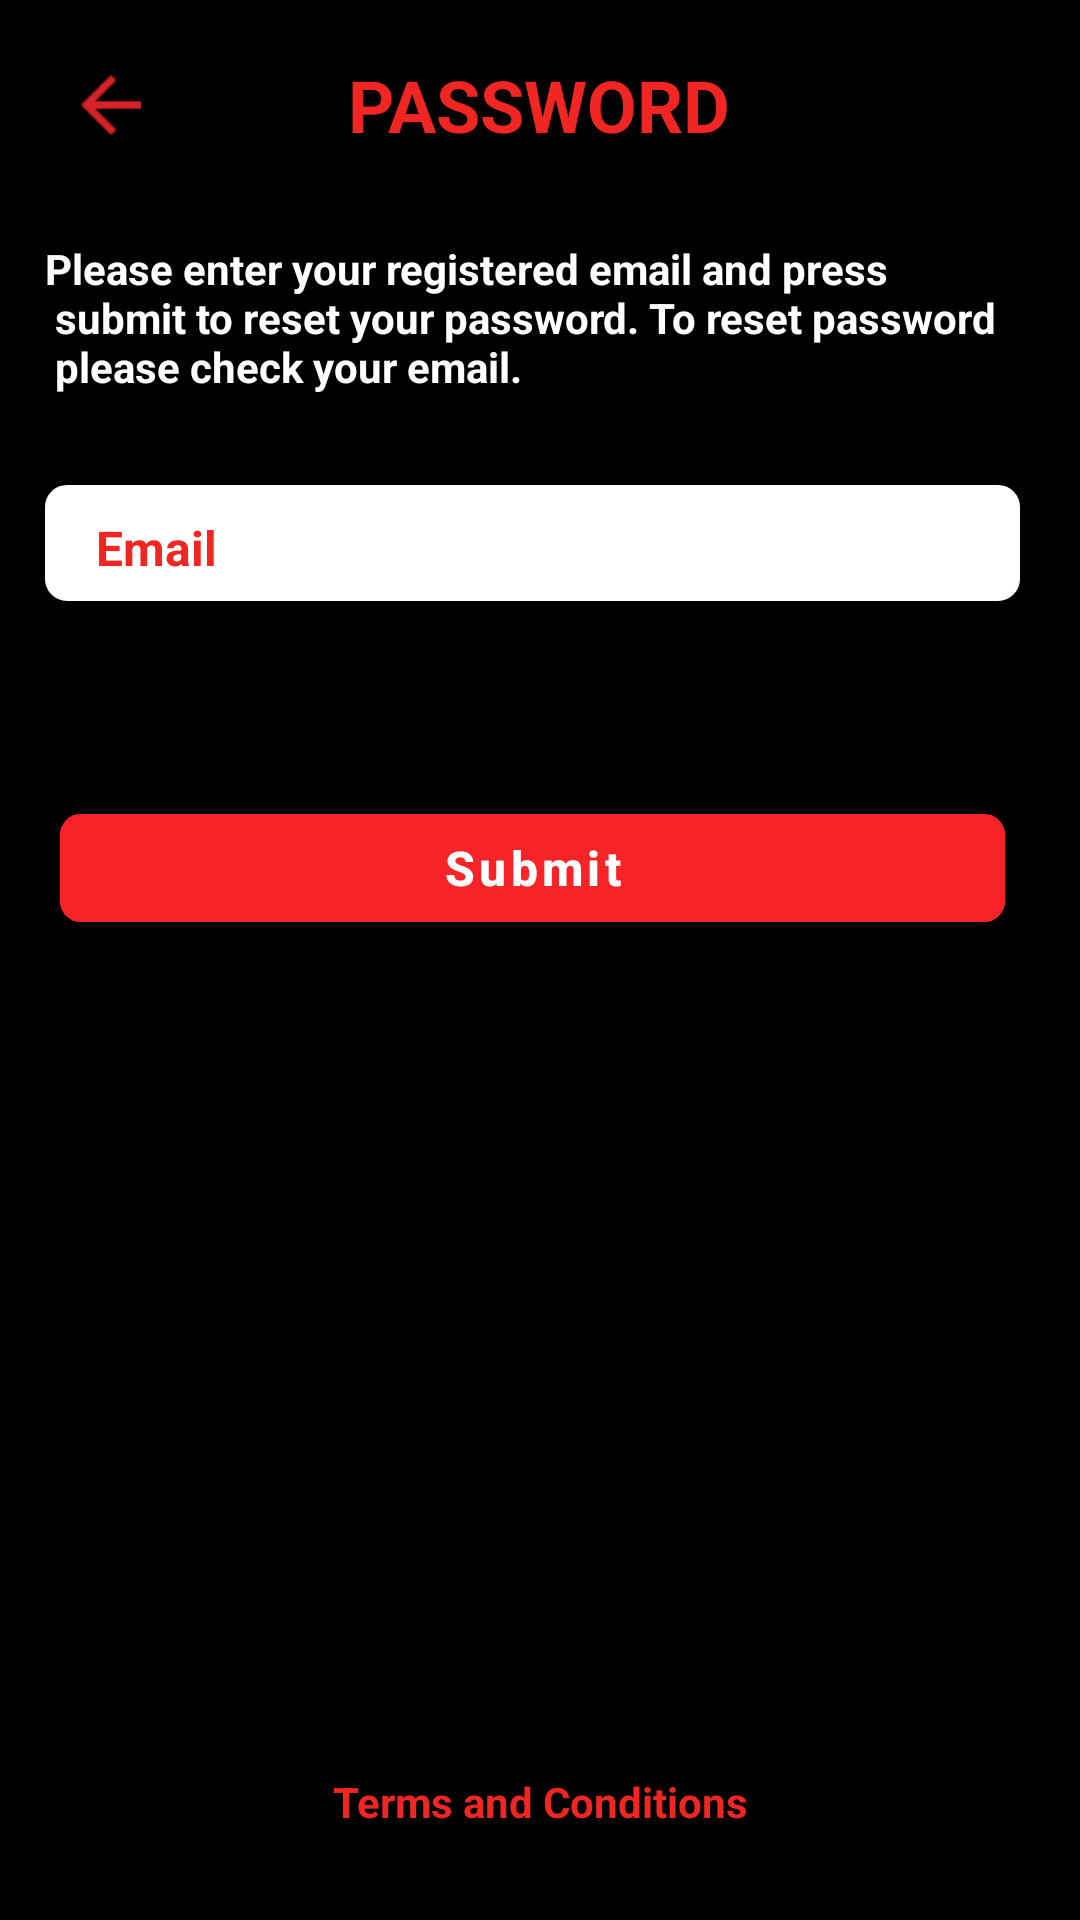

Screen size 1080x1920. Icon name, then its box in pixels as (x1, y1, x2, y2):
back: (80, 74, 142, 136)
